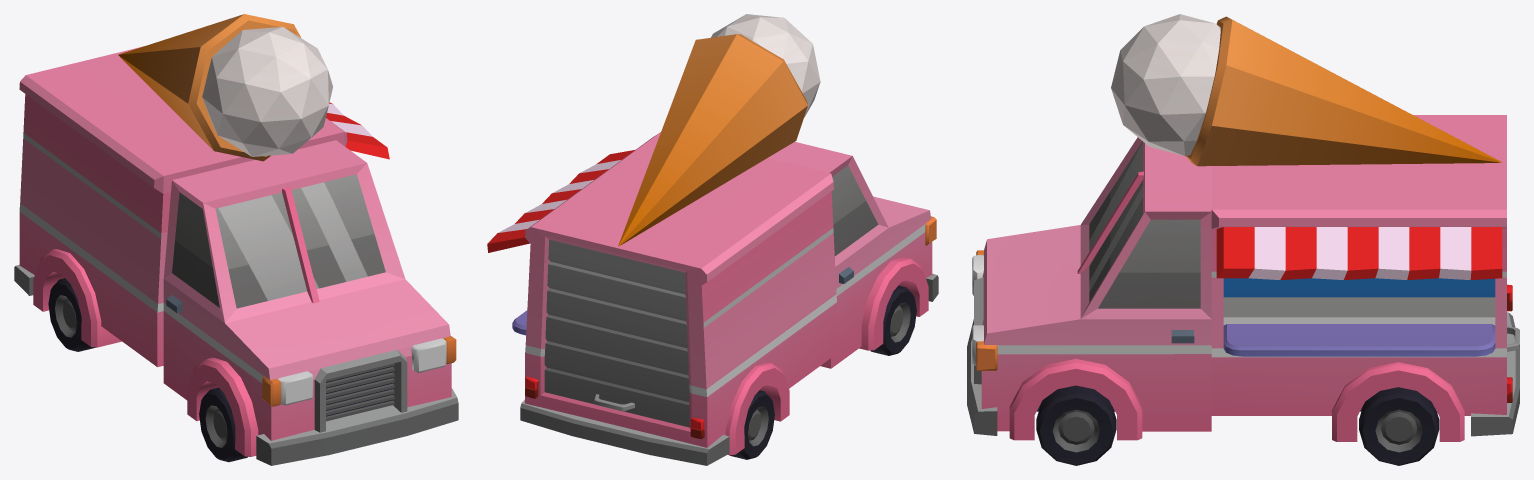
The model's file is IceCreamTruck_1.fbx.
3 renders of one model, left to right at view 1: azimuth 30°, elevation 25°; view 2: azimuth 150°, elevation 25°; view 3: azimuth 270°, elevation 25°, orthographic. The views are drawn at different scales.
Parts seen in each view (by area): view 1: IceCreamTruck_1, W_FR, W_BR; view 2: IceCreamTruck_1, W_FR, W_BR; view 3: IceCreamTruck_1, W_FL, W_BL.
Part boxes in pixels (bbox=[...]): IceCreamTruck_1: bbox=[14, 14, 458, 465]; W_FR: bbox=[199, 387, 247, 462]; W_BR: bbox=[48, 278, 95, 351]; IceCreamTruck_1: bbox=[487, 14, 938, 465]; W_FR: bbox=[870, 285, 916, 355]; W_BR: bbox=[729, 390, 774, 459]; IceCreamTruck_1: bbox=[967, 14, 1519, 441]; W_FL: bbox=[1036, 385, 1116, 465]; W_BL: bbox=[1359, 387, 1439, 465].
Bounding box in the file's own units: 134 × 190 × 241.
